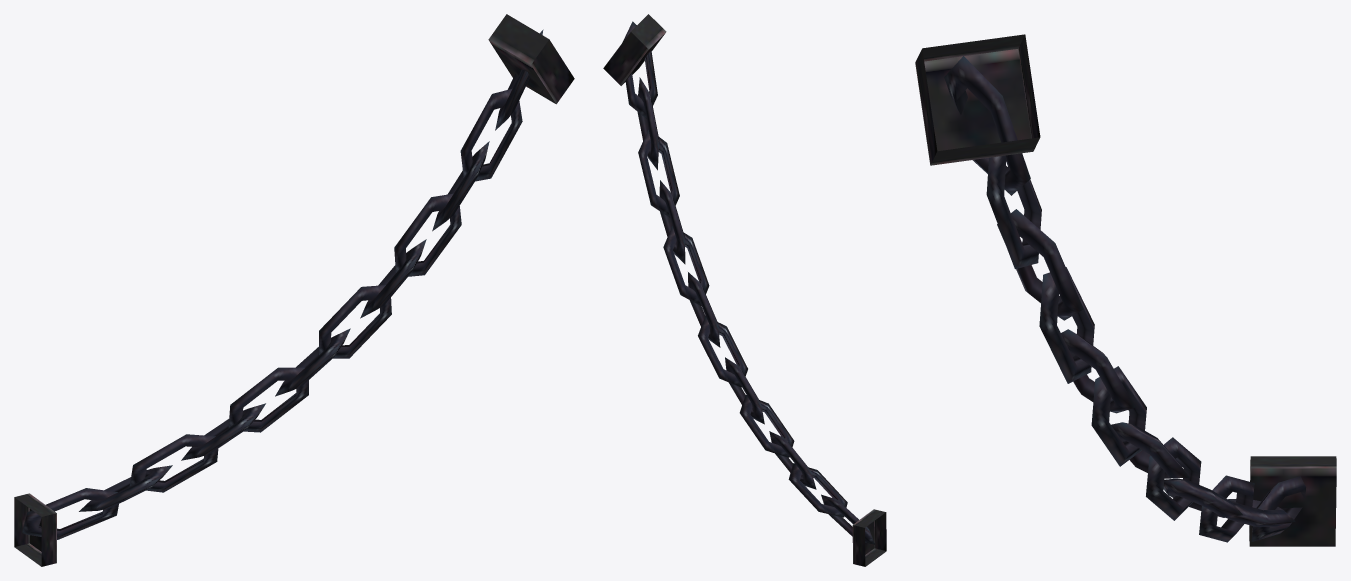
The model's file is tlfb_tielian1.FBX.
3 views of the same model, side by side, from view 1: azimuth 30°, elevation 25°; view 2: azimuth 150°, elevation 25°; view 3: azimuth 270°, elevation 25° (orthographic). The views are drawn at different scales.
Parts seen in each view (by area): view 1: tlfb_tielian1; view 2: tlfb_tielian1; view 3: tlfb_tielian1.
Part boxes in pixels (x1,y1,x2,y2): tlfb_tielian1: (14, 14, 574, 566); tlfb_tielian1: (603, 14, 886, 566); tlfb_tielian1: (915, 34, 1336, 546).
Bounding box in the file's own units: 712 × 791 × 376.
